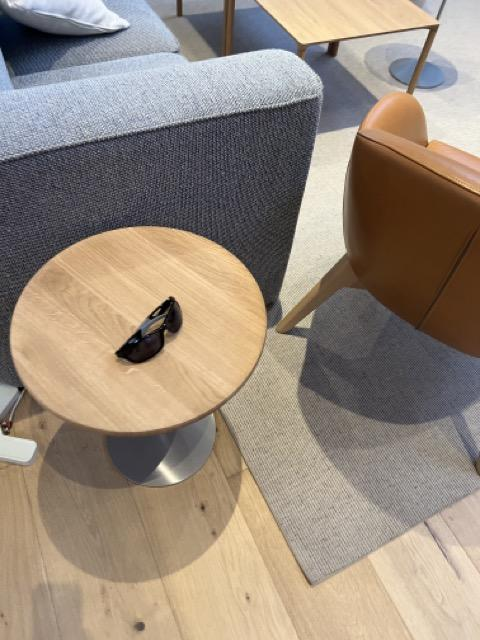Sunglasses: (115, 295, 184, 367)
